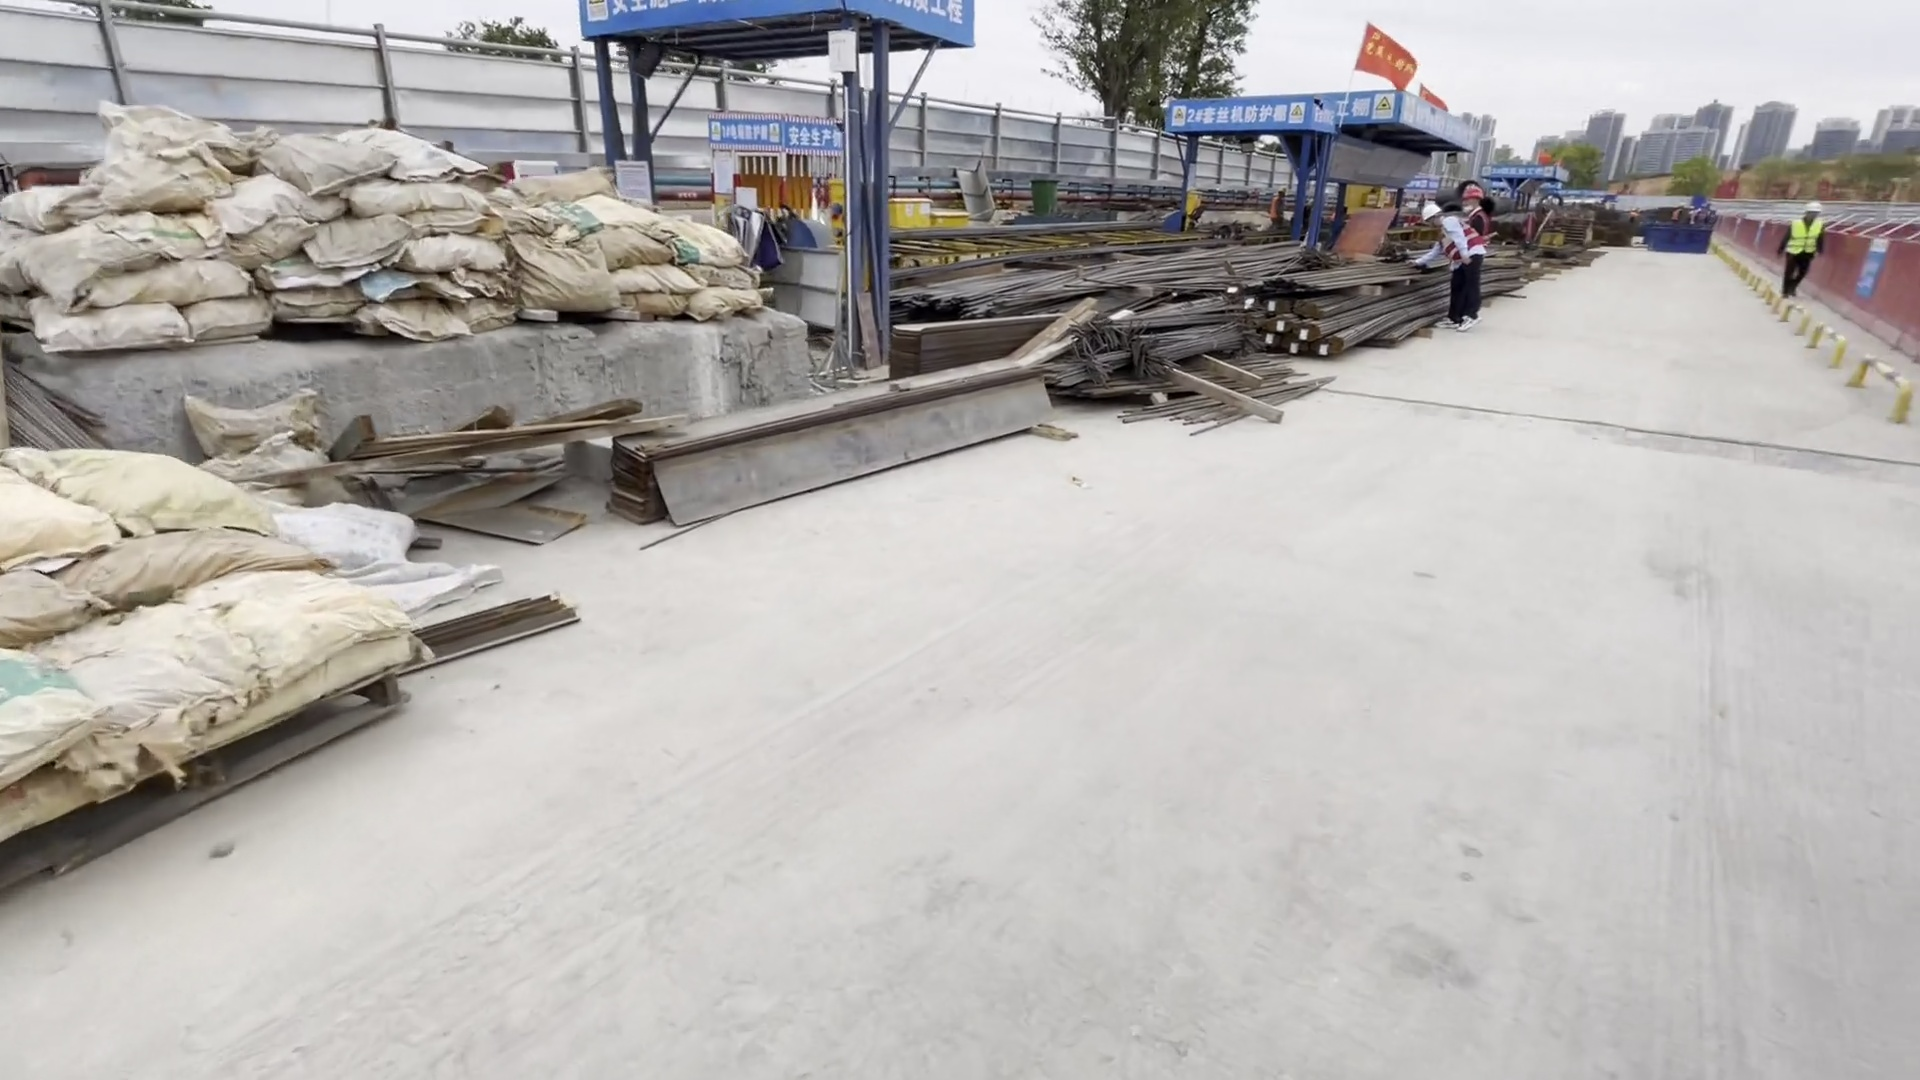ebox: (883, 196, 961, 242), (1351, 184, 1399, 215), (1181, 192, 1208, 219)
fence: (1819, 216, 1920, 379)
helmet: (1414, 202, 1442, 222), (1460, 185, 1480, 198), (1804, 202, 1820, 214)
hopper: (1645, 224, 1714, 255)
person: (1417, 209, 1479, 333), (1776, 206, 1824, 296), (1457, 186, 1484, 331)
rebar: (876, 233, 1546, 445)
slogan: (1159, 94, 1396, 132), (691, 108, 849, 156)
vest: (1441, 222, 1488, 262), (1785, 218, 1821, 260)
